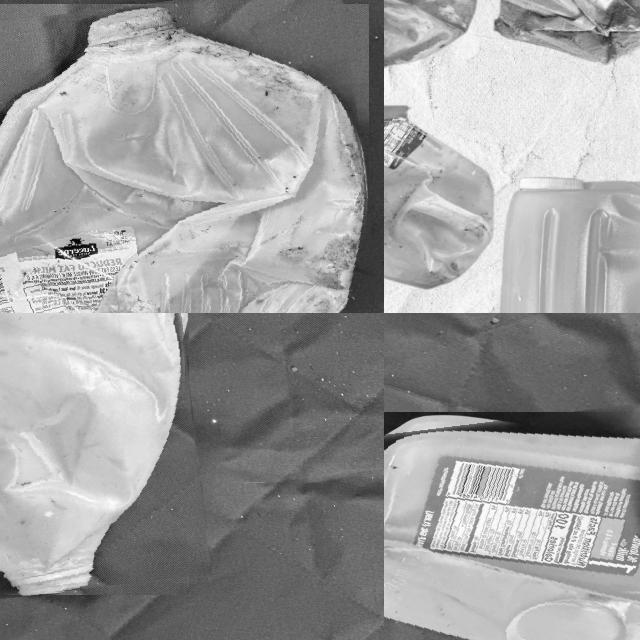milk-jug: (0, 0, 381, 313), (384, 395, 640, 640), (0, 313, 201, 603), (492, 175, 640, 313), (384, 137, 506, 286), (491, 0, 640, 63), (384, 0, 478, 70)
